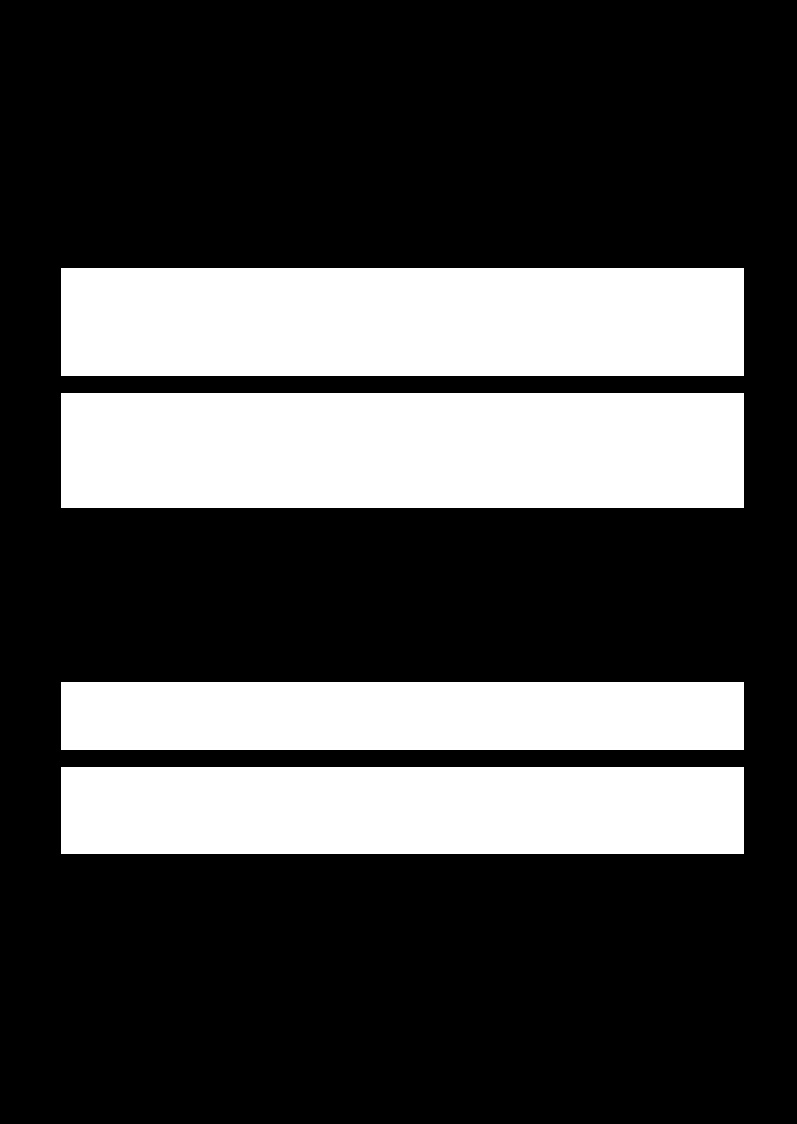table: (61, 393, 743, 507), (61, 268, 743, 375), (61, 767, 743, 853), (61, 682, 743, 749)
